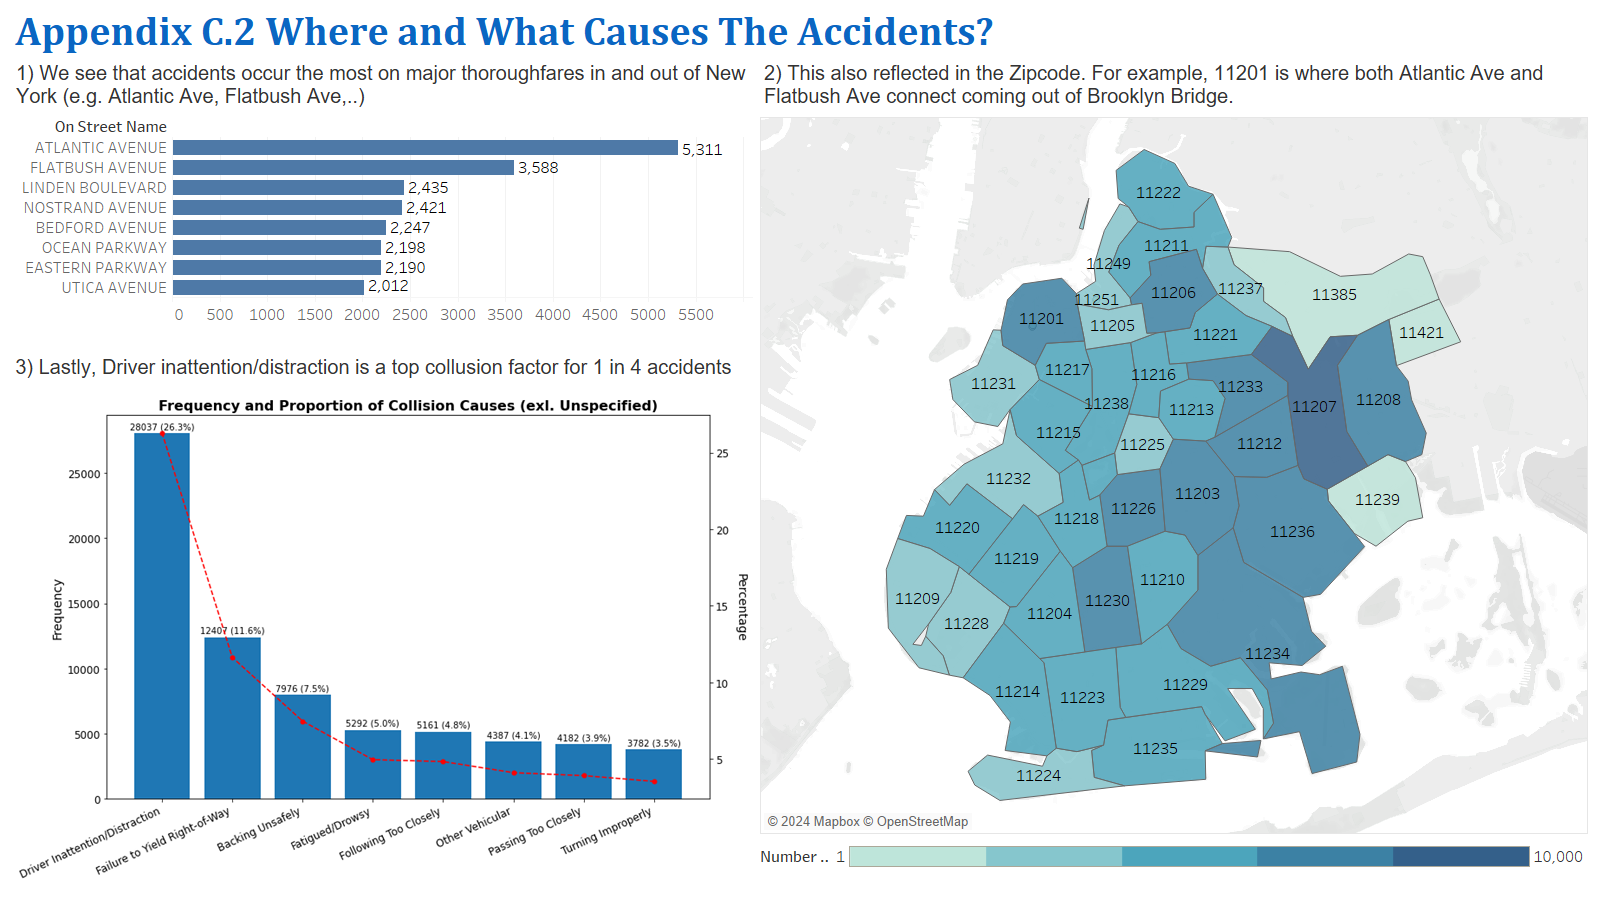

The dashboard page shown, as its layout file describes it:
{"tool":"tableau","page":{"name":"B. Where are the accidents?","canvas":[1600,900],"ordinal":1},"visuals":[{"type":"text","box":[8,8,1584,44]},{"type":"worksheet","title":"Where: Street","mark":"Automatic","rows":["on_street_name"],"cols":["borough"],"box":[8,52,748,293]},{"type":"worksheet","title":"Where: ZipCode","mark":"Automatic","box":[756,52,836,786]},{"type":"text","box":[8,345,748,45]},{"type":"image","param":"C:/Users/Hoang/OneDrive/Desktop/Projects/brooklyncasestudy_collision/images/cont","box":[8,390,748,502]},{"type":"legend","title":"Where: ZipCode","param":"[federated.191hya31hsng831bw4i491q4hc4q].[cnt:borough:qk]","box":[756,838,836,54]}]}

Visuals, with their boxes in screenshot pixels (x1, y1, x2, y2), scaled from the page's 1600x900 canvas onto the 1600x900 screenshot:
text: (8, 8, 1592, 52)
"Where: Street" worksheet: (8, 52, 756, 345)
"Where: ZipCode" worksheet: (756, 52, 1592, 838)
text: (8, 345, 756, 390)
image: (8, 390, 756, 892)
"Where: ZipCode" legend: (756, 838, 1592, 892)
